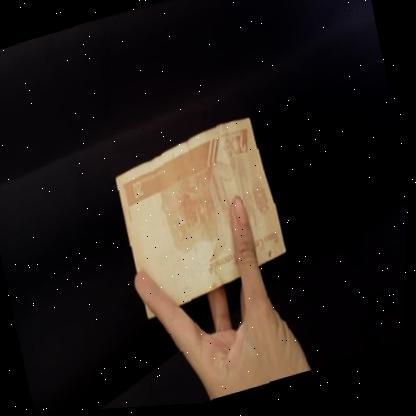twenty-back-vef: (107, 114, 300, 327)
